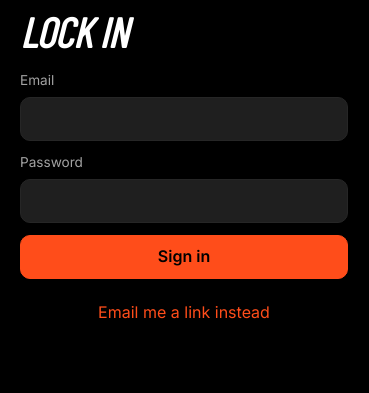
SignIn › a wrong password shows the fixed copy
The width and height of the screenshot is (369, 393).
Type "a@b.co" into the field labelled "Email" at point(184, 119), box [20, 97, 348, 141]
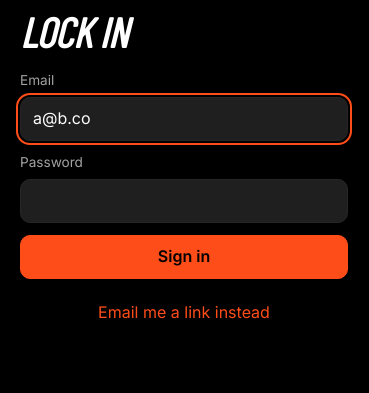
Type "nope" into the password field labelled "Password" at point(184, 200), box [20, 178, 348, 222]
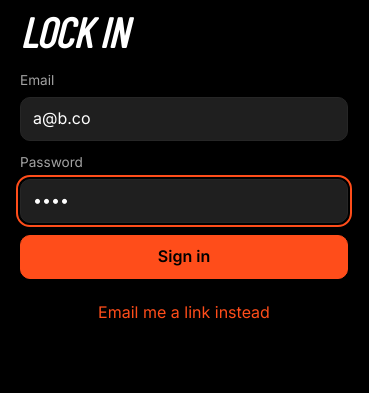
Click the button "Sign in" at point(184, 256), box [20, 234, 348, 278]
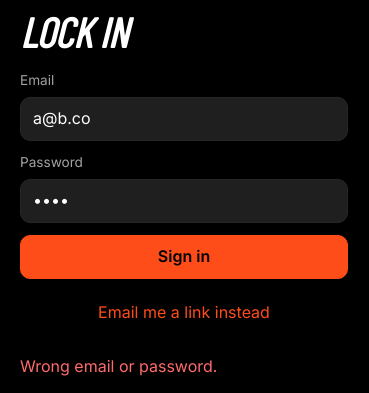
Now the message reads "Wrong email or password.", box [20, 356, 217, 376]
